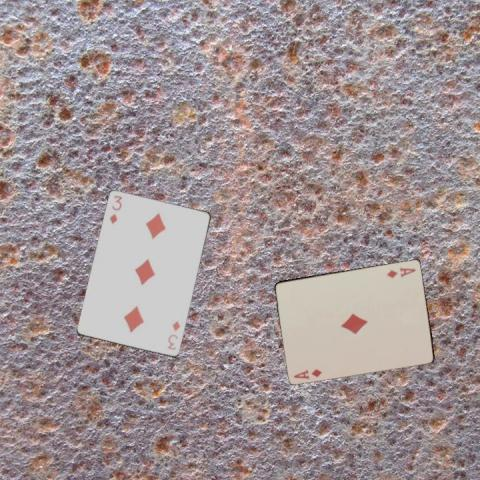3d: (107, 193, 124, 225), (165, 318, 181, 351)
Ad: (384, 264, 417, 279), (291, 366, 323, 380)
